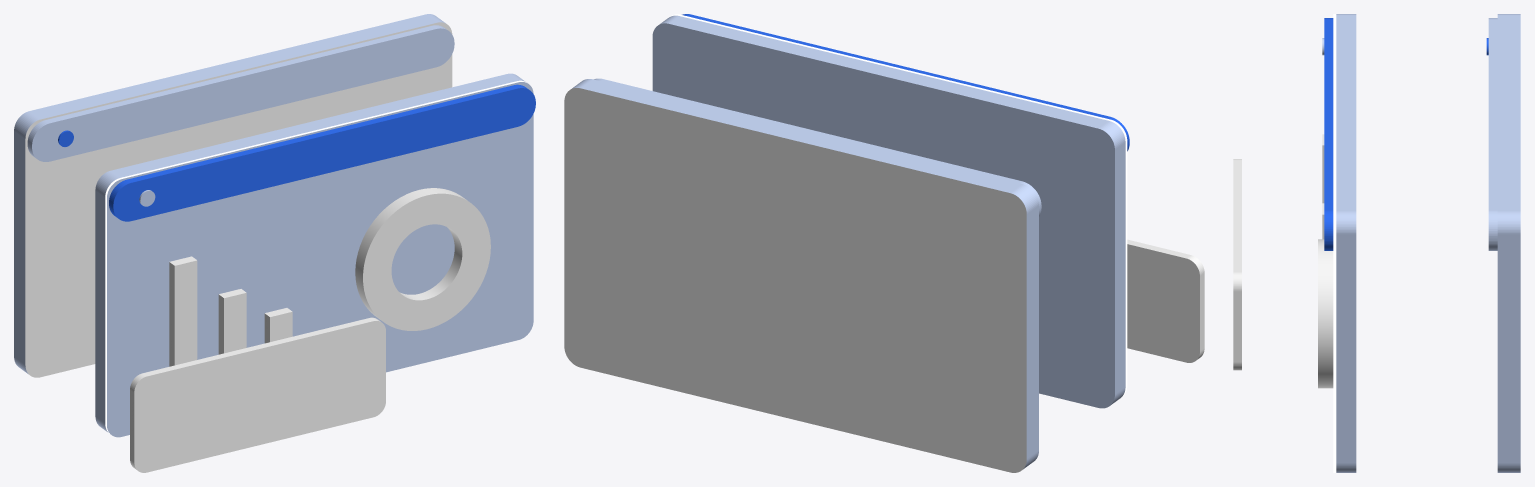
Rendered from dataplane.glb.
3 views of the same model, side by side, from view 1: azimuth 30°, elevation 25°; view 2: azimuth 150°, elevation 25°; view 3: azimuth 270°, elevation 25° (orthographic). The views are drawn at different scales.
Parts seen in each view (by area): view 1: 立方体.003, 立方体.014, 立方体, 立方体.015, 立方体.004, 柱体.002, 立方体.010, 立方体.011, 立方体.012; view 2: 立方体.014, 立方体.003, 立方体, 立方体.004, 立方体.015; view 3: 立方体.003, 立方体.014, 立方体.004, 立方体.015, 柱体.002, 立方体.
Part boxes in pixels (box(x1,y1,x2,y2)): 立方体.003: box(95, 73, 533, 437); 立方体.014: box(14, 14, 452, 377); 立方体: box(130, 317, 385, 472); 立方体.015: box(27, 25, 454, 161); 立方体.004: box(109, 84, 535, 221); 柱体.002: box(355, 188, 490, 330); 立方体.010: box(169, 256, 197, 366); 立方体.011: box(218, 289, 246, 354); 立方体.012: box(264, 308, 292, 343); 立方体.014: box(564, 79, 1038, 472); 立方体.003: box(652, 14, 1127, 408); 立方体: box(1127, 239, 1204, 362); 立方体.004: box(682, 14, 1129, 151); 立方体.015: box(594, 78, 1041, 216); 立方体.003: box(1333, 14, 1356, 472); 立方体.014: box(1497, 14, 1520, 472); 立方体.004: box(1324, 18, 1333, 250); 立方体.015: box(1488, 18, 1497, 250); 柱体.002: box(1318, 239, 1333, 388); 立方体: box(1233, 159, 1241, 370).
Size of the model in its own units: 1.79 by 0.9816 by 0.9814.
